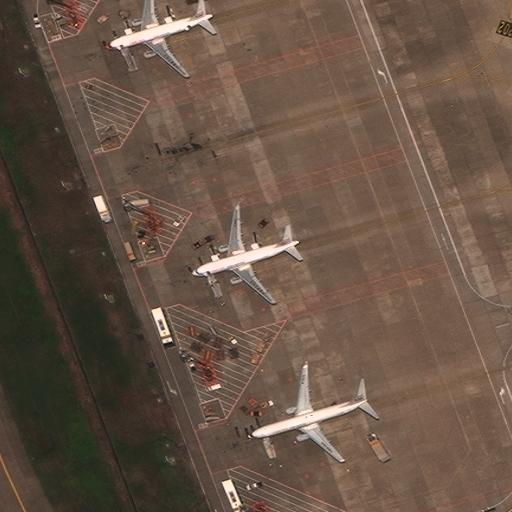Medium Civil Transport: (247, 366, 367, 463), (191, 206, 299, 303), (105, 0, 214, 77)
